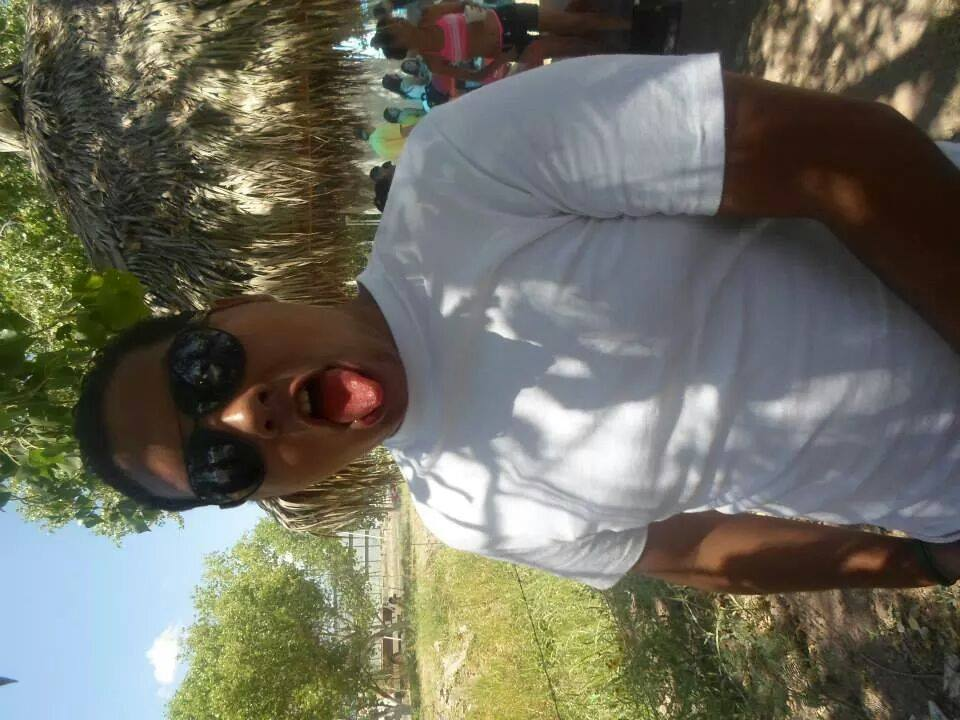Yoshi: (53, 128, 771, 559)
